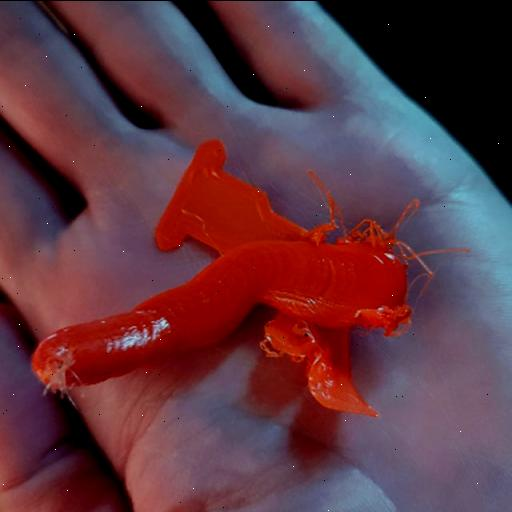spaghetti: (255, 170, 469, 364)
